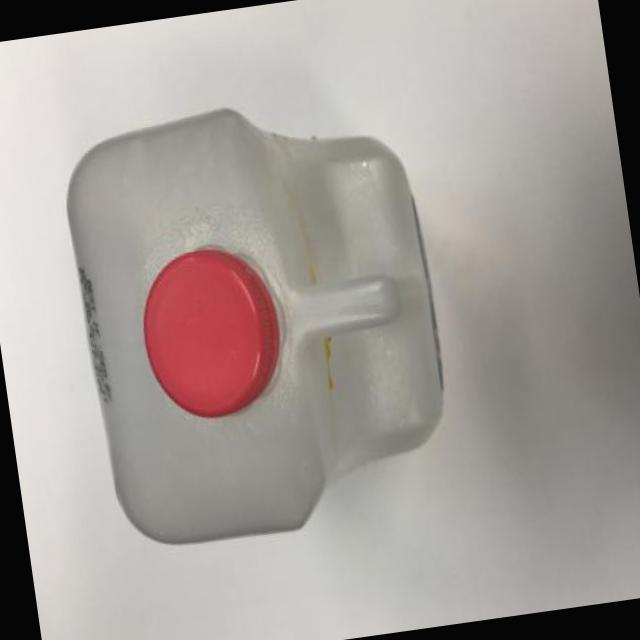Recycle: (54, 86, 468, 562)
